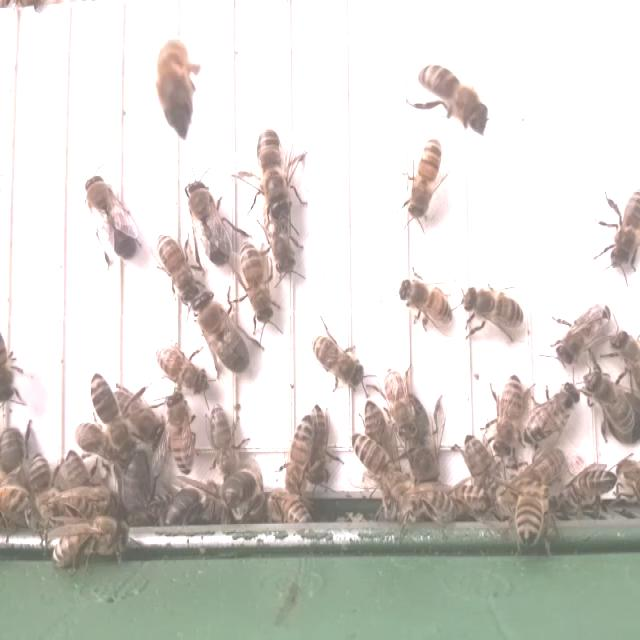Drone: (81, 170, 140, 264), (191, 287, 252, 376), (186, 177, 237, 270), (251, 122, 297, 222)
Worker: (413, 58, 489, 138), (554, 300, 613, 367), (522, 380, 581, 446), (235, 240, 277, 327), (87, 370, 128, 454), (405, 134, 443, 223), (308, 330, 367, 385), (460, 282, 526, 331), (154, 231, 198, 304), (152, 341, 208, 396), (396, 274, 453, 328), (165, 389, 200, 476), (350, 430, 401, 489), (490, 373, 523, 463), (607, 186, 640, 276), (282, 414, 314, 498), (206, 403, 238, 484)
